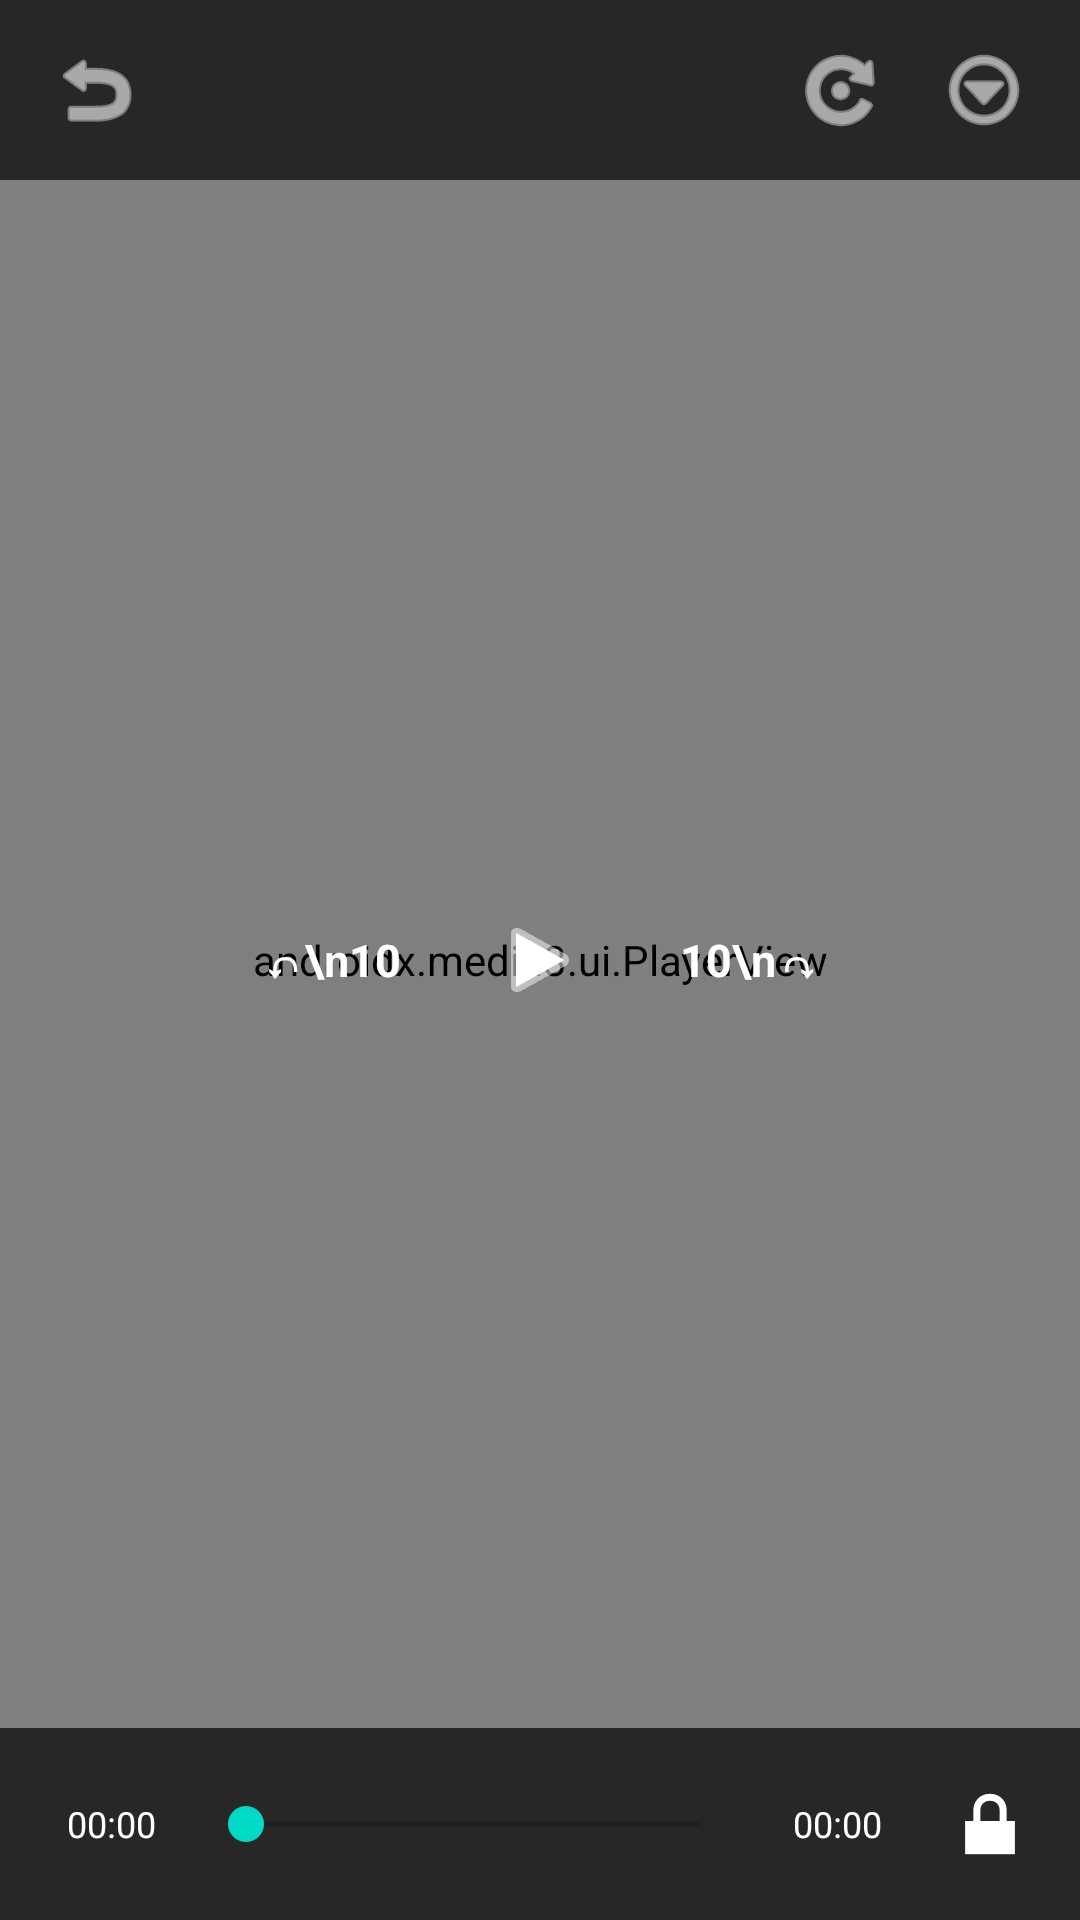

Icon click points for this 1080w x 1920h phone screenshot, format [x,y]:
Back: [97,90]
Lock controls: [990,1824]
More options: [984,90]
Rotate Screen: [840,90]
